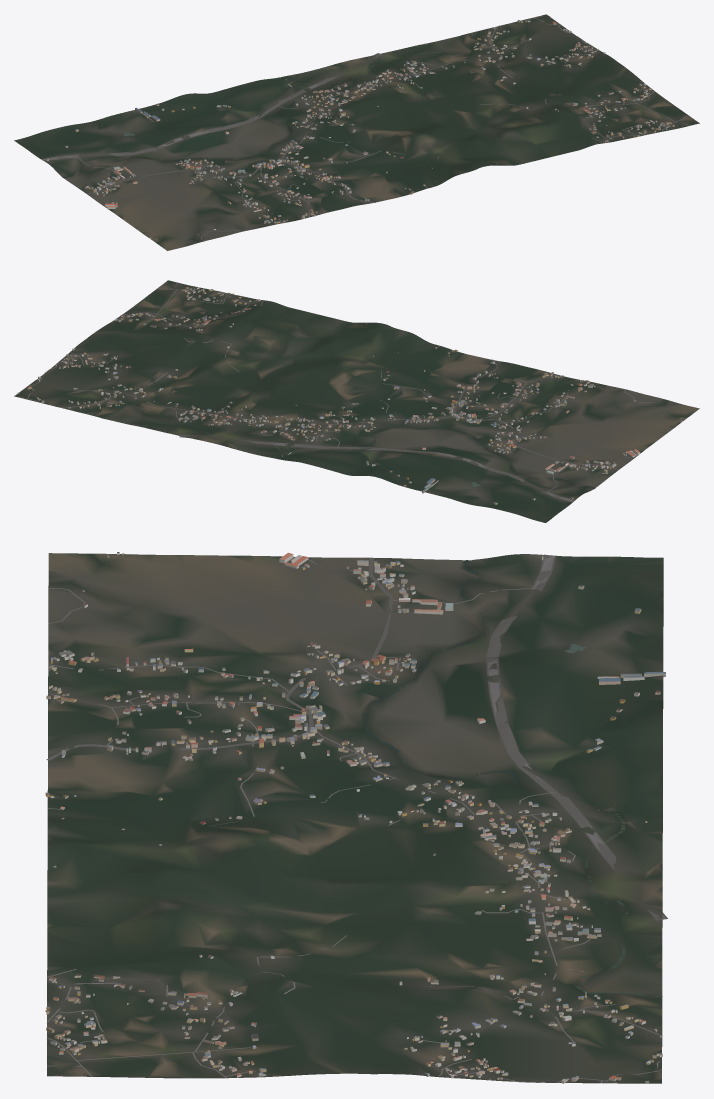
3 renders of one model, top to bottom at view 1: azimuth 30°, elevation 25°; view 2: azimuth 150°, elevation 25°; view 3: azimuth 270°, elevation 25°, orthographic. The views are drawn at different scales.
Visible parts, largest first — view 1: ground, buildings, roads, water; view 2: ground, buildings, roads, water; view 3: ground, buildings, roads, water.
Part boxes in pixels (box(x1,y1,x2,y2)): ground: box(14, 14, 699, 250); buildings: box(47, 16, 674, 239); roads: box(41, 17, 689, 240); water: box(62, 36, 471, 177); ground: box(14, 280, 699, 522); buildings: box(17, 287, 682, 504); roads: box(25, 282, 661, 502); water: box(103, 405, 595, 488); ground: box(47, 553, 663, 1083); buildings: box(45, 552, 665, 1083); roads: box(46, 554, 667, 1083); water: box(362, 560, 662, 997).
Bounding box in the file's own units: 2807 × 74.52 × 1419.
